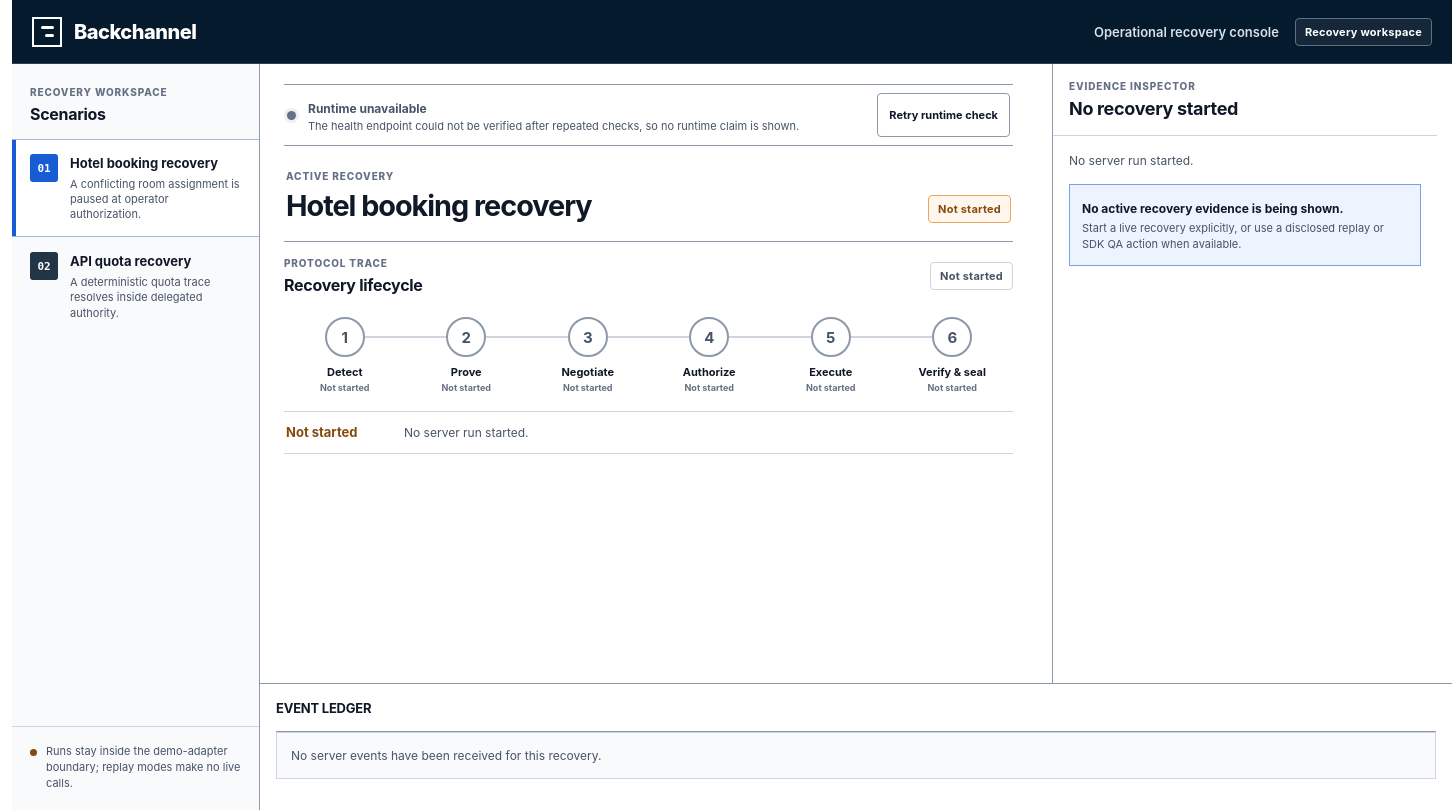
Scenario: runtime-health recovery integration › wires exhausted manual recovery back to live-ready without starting a run
The image size is (1452, 810).
Click the button "Retry runtime check": (944, 115) [877,93,1010,137]
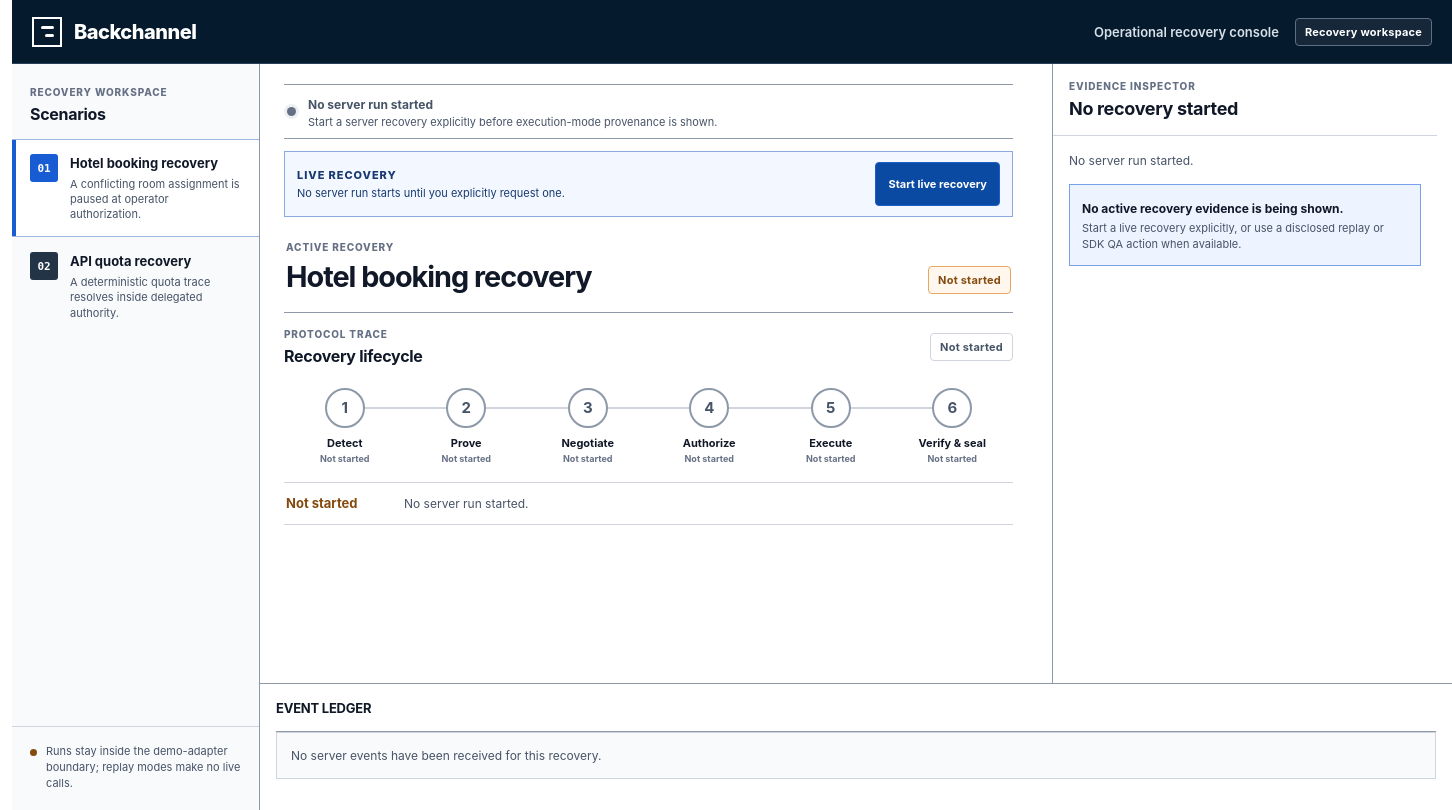
Expected: the text "Retrying runtime check" is shown, [308,97,433,112]
Result: the button "Start live recovery" is shown at [876,162,1000,206]
